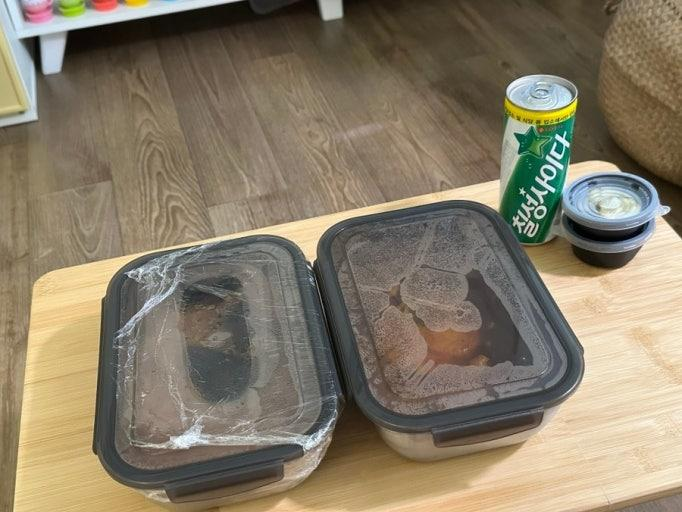Bottle: (499, 74, 577, 244)
Lunch Box: (318, 201, 583, 459), (93, 235, 341, 509)
cup: (554, 172, 668, 267)
